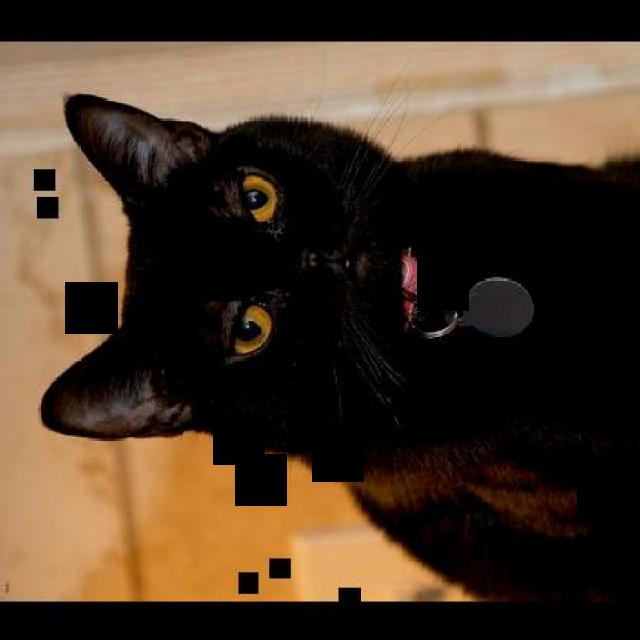unauthorized: (37, 66, 638, 605)
